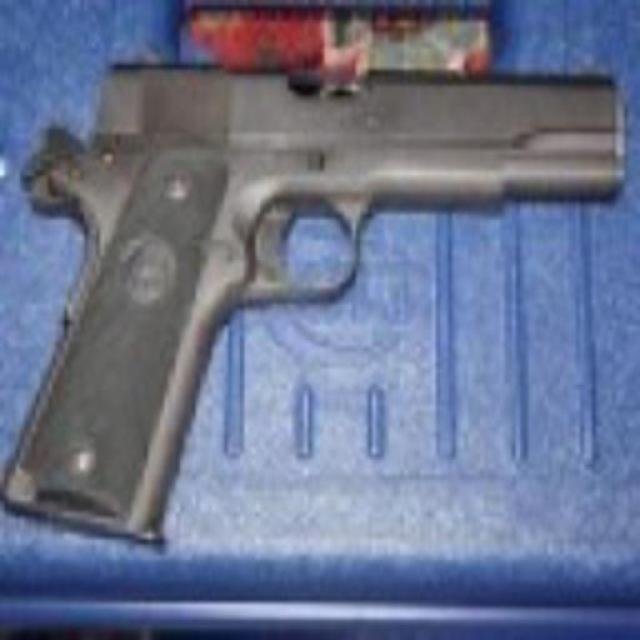pistol: (4, 64, 620, 565)
